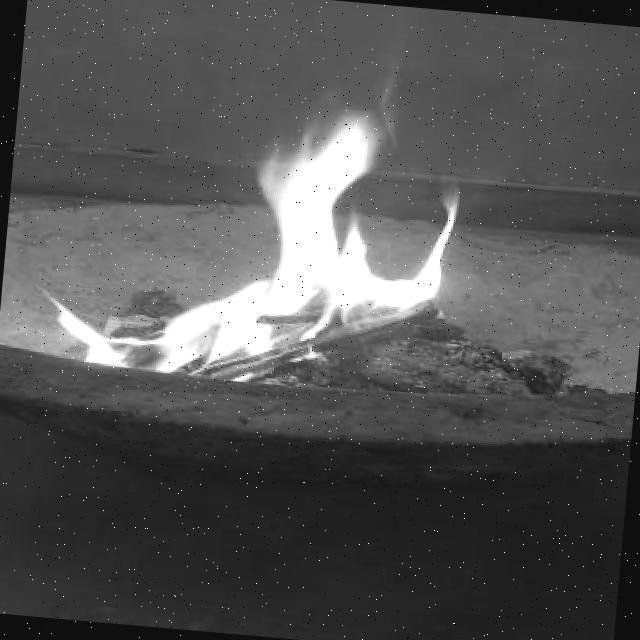Fire: (40, 69, 471, 411)
